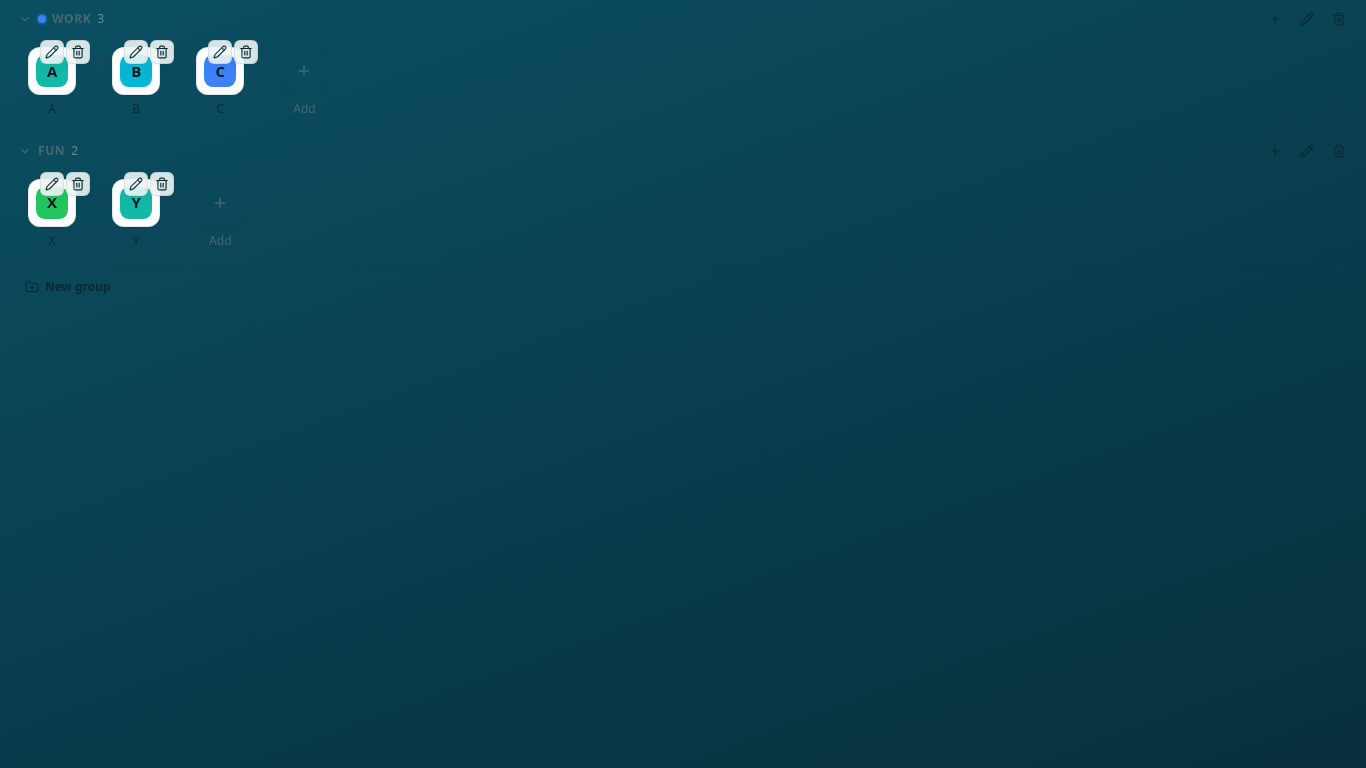
Scenario: Launch pad: edit mode › deletes with Undo (re-creates the bookmark at its old position)
Click the button named "Delete B".
click(162, 52)  # box [150,40,174,64]
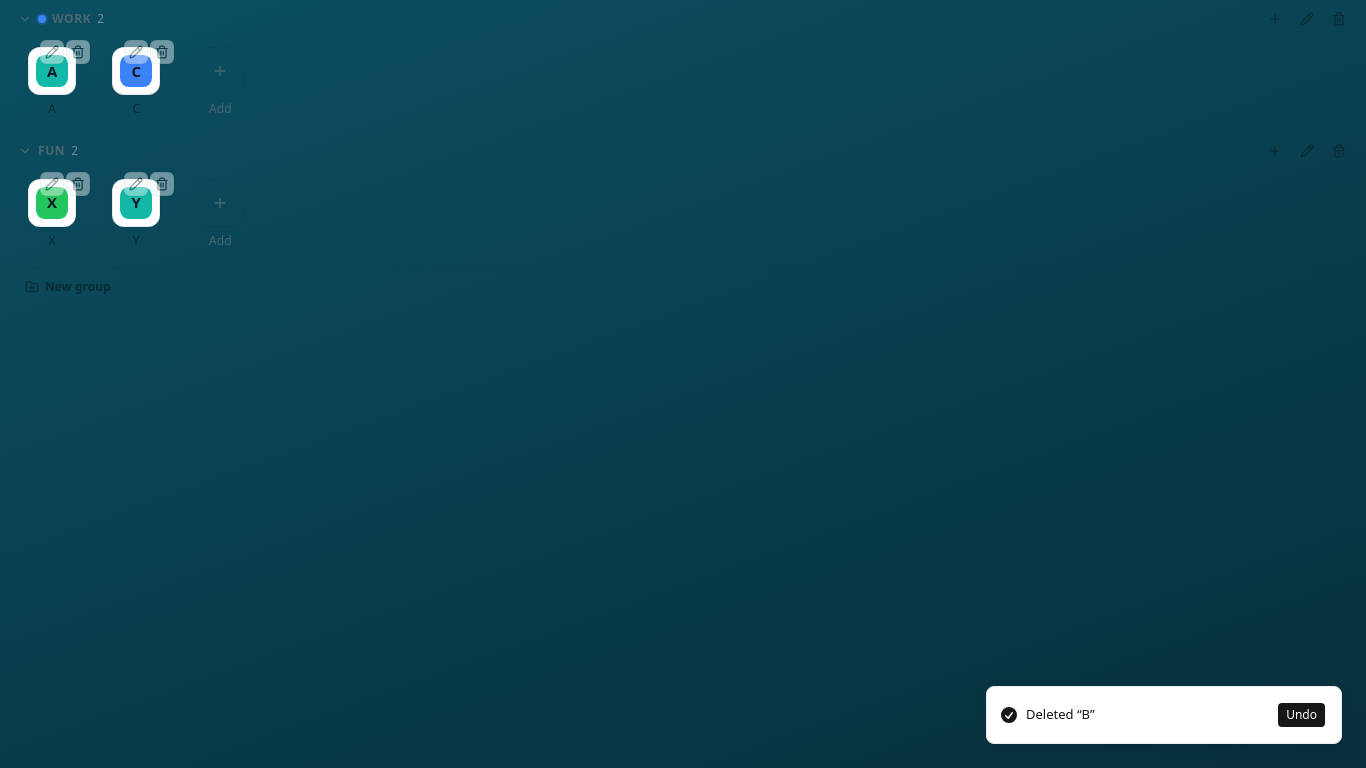
Click the button "Undo".
click(1302, 715)  # box [1278,703,1325,727]
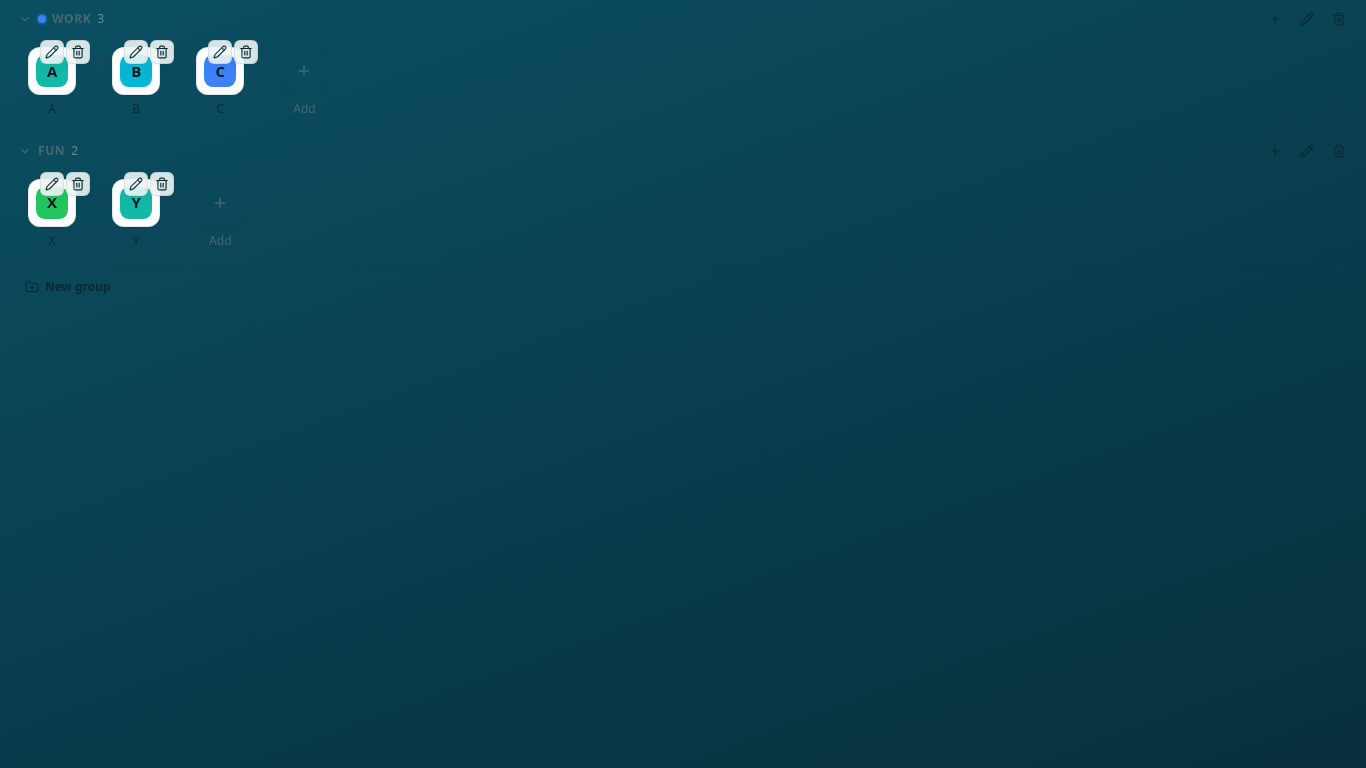
Check: the button named "B. Drag to reorder" is shown, box [112,47,160,117]
